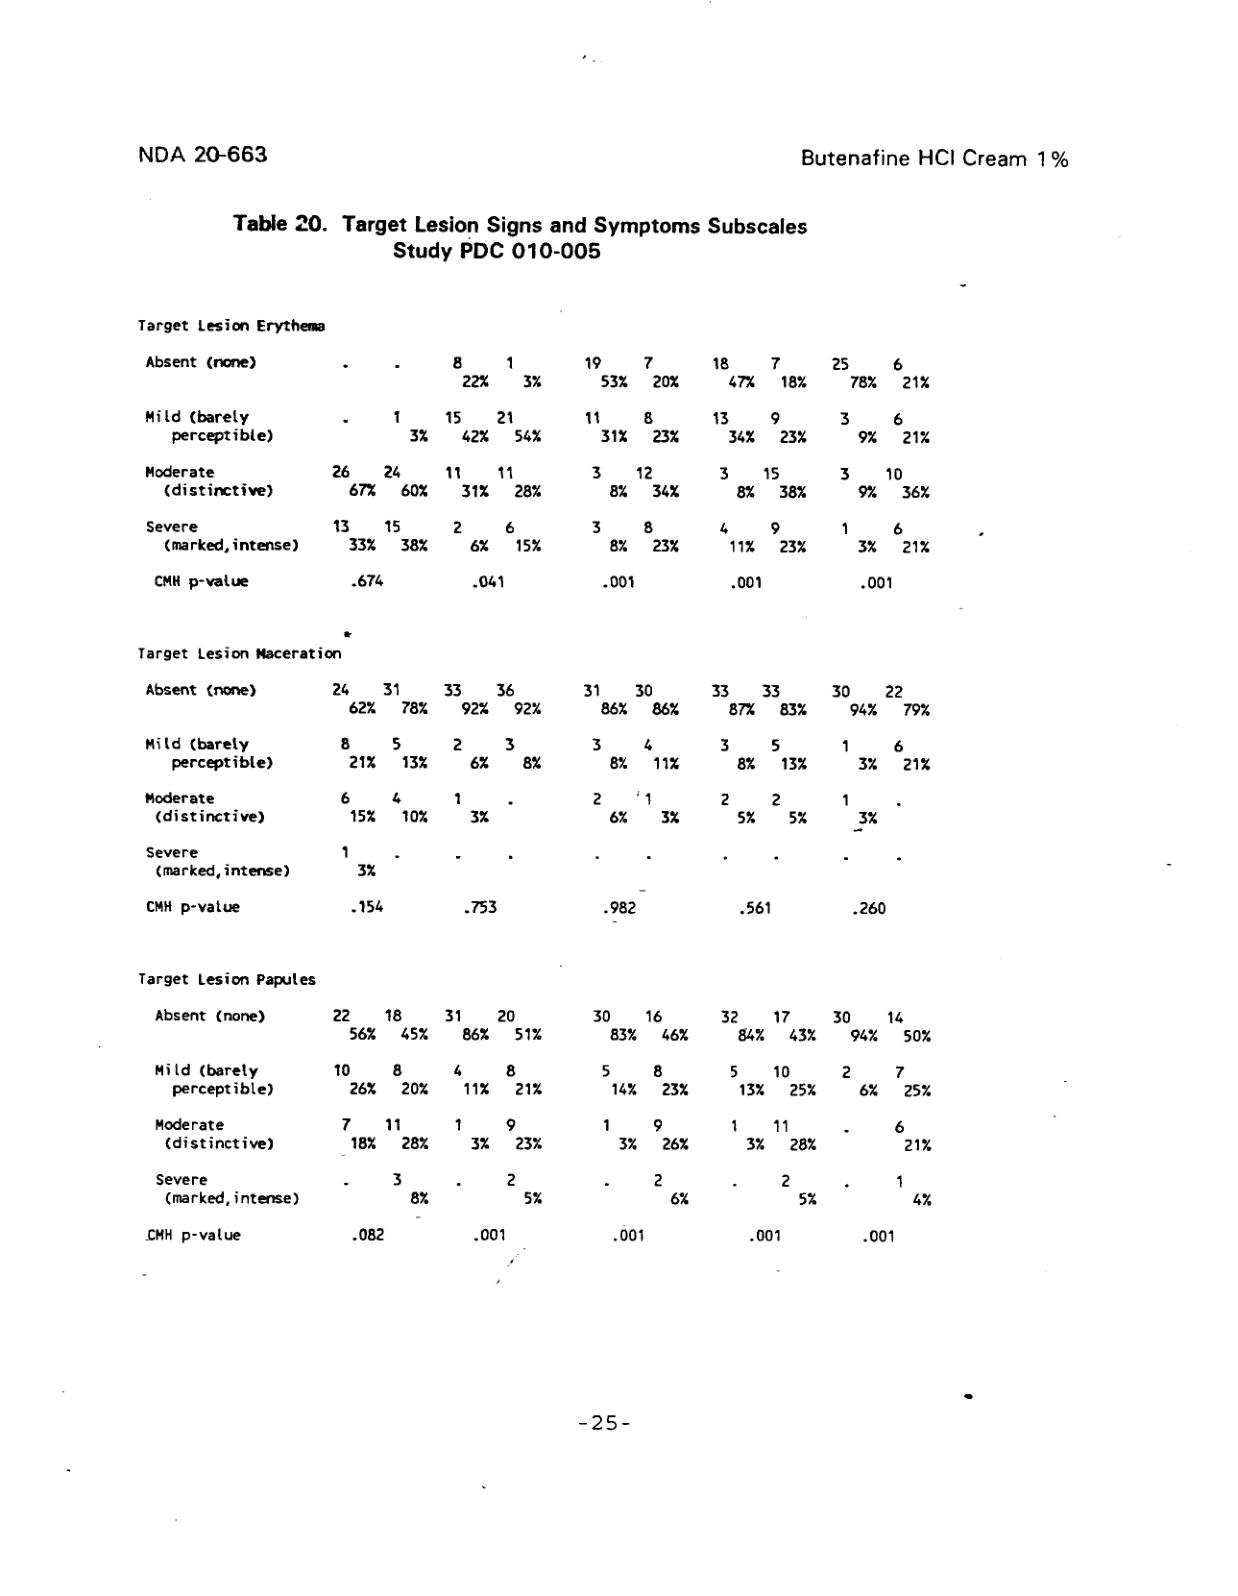nolines: (133, 317, 938, 1245)
